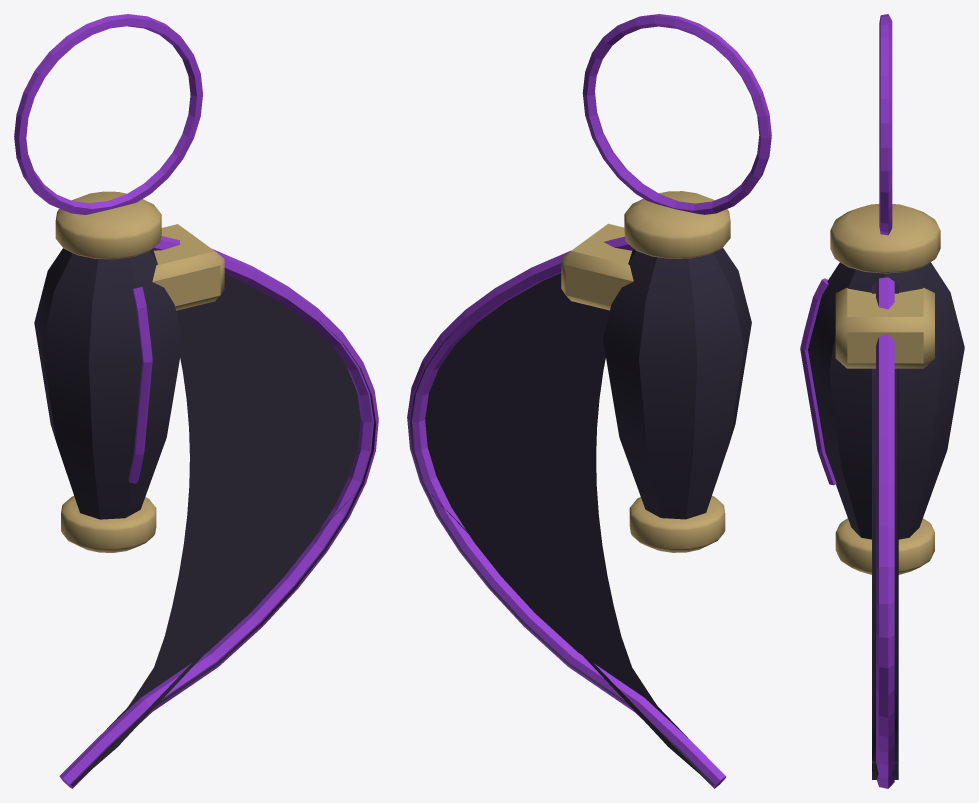
File: Kit_Limb_LeagueScythe_S.glb
The picture shows the model from 3 angles, left to right: view 1: azimuth 30°, elevation 25°; view 2: azimuth 150°, elevation 25°; view 3: azimuth 270°, elevation 25°; orthographic projection. The views are drawn at different scales.
Parts seen in each view (by area): view 1: Kit_Limb_LeagueScythe_S; view 2: Kit_Limb_LeagueScythe_S; view 3: Kit_Limb_LeagueScythe_S.
Boxes of the visible parts, left/top/right/bottom form: Kit_Limb_LeagueScythe_S: left=14, top=14, right=378, bottom=788; Kit_Limb_LeagueScythe_S: left=407, top=14, right=771, bottom=788; Kit_Limb_LeagueScythe_S: left=800, top=14, right=964, bottom=788.
Size of the model in its own units: 0.2264 by 0.4549 by 0.0866.
